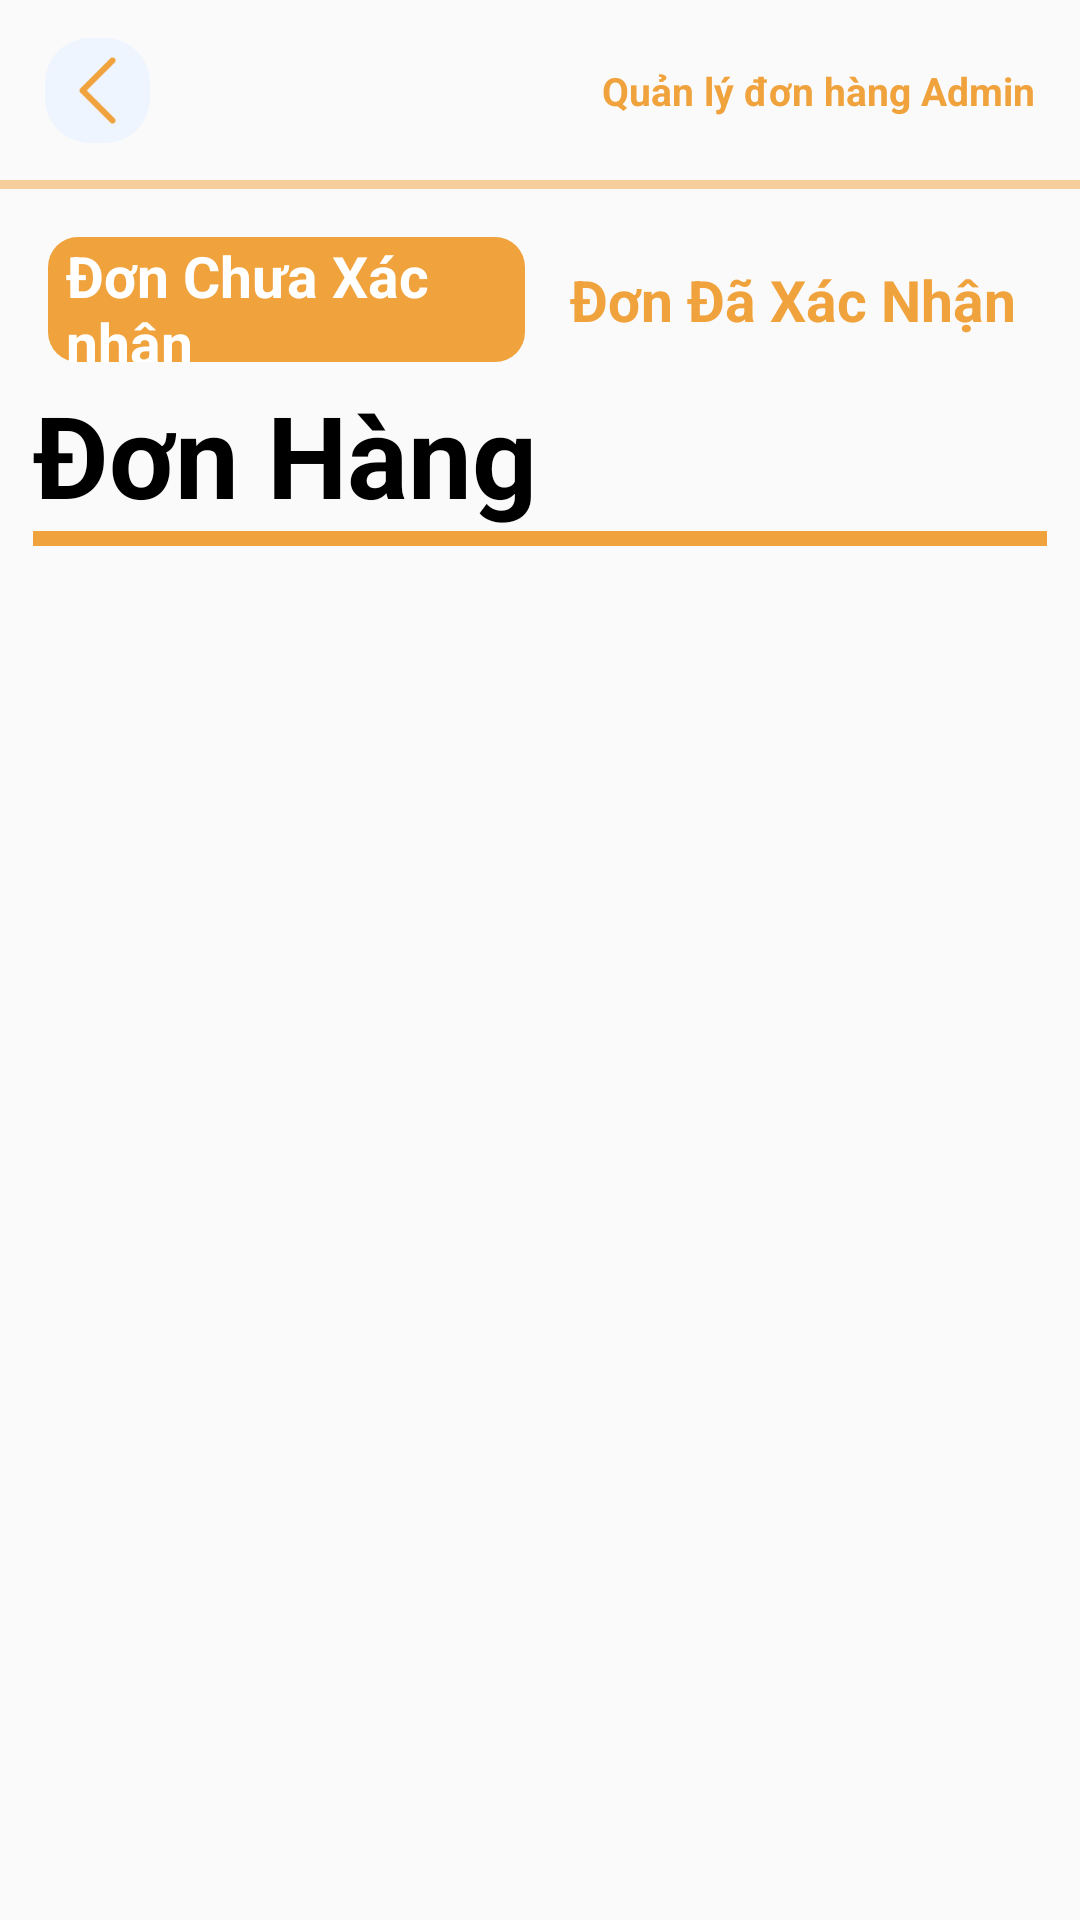

Icons on this 1080×1920 Android screen, each with its box as (x1, y1, x2, y2):
back orage: (45, 38, 150, 143)
